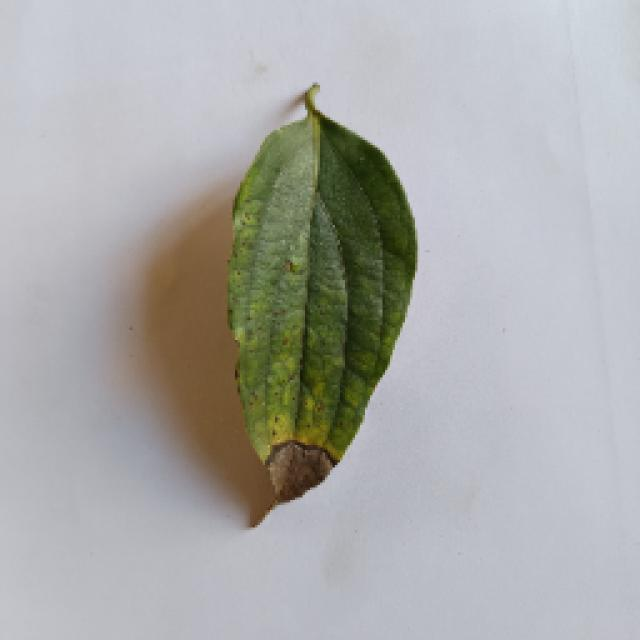footrot: (218, 78, 422, 520)
